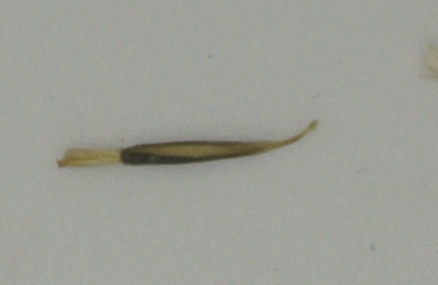เมล็ดงอกแตก: (54, 118, 318, 169)
